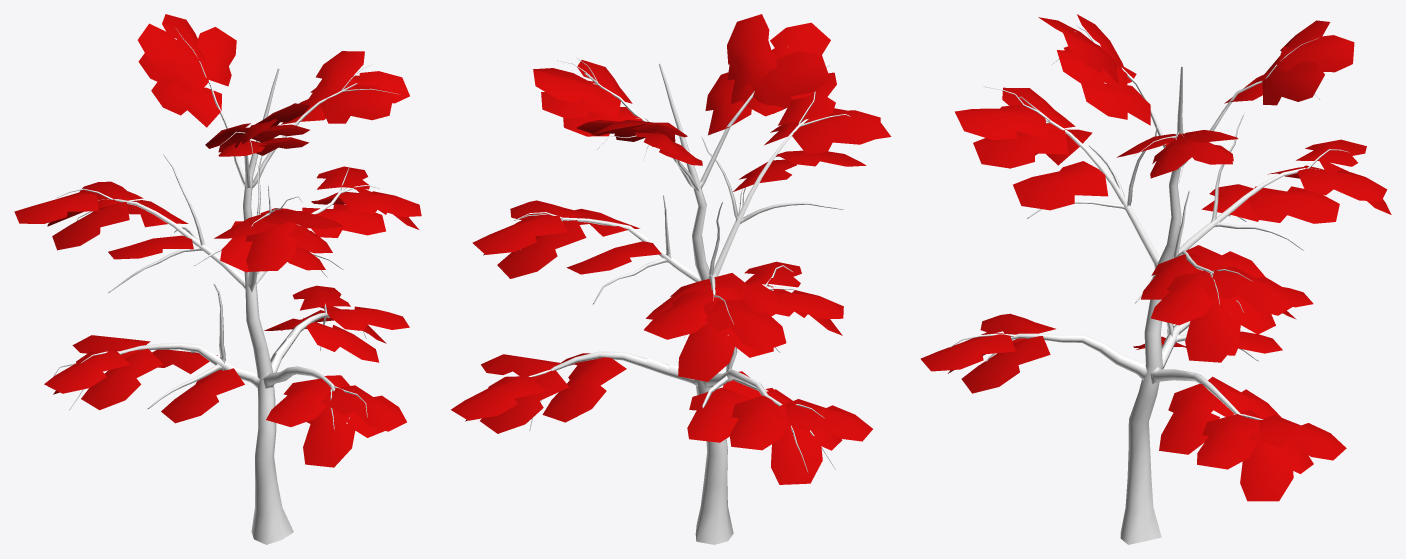
Rendered from SM_tree_06.FBX.
3 renders of one model, left to right at view 1: azimuth 30°, elevation 25°; view 2: azimuth 150°, elevation 25°; view 3: azimuth 270°, elevation 25°, orthographic. The views are drawn at different scales.
Visible parts, largest first — view 1: SM_tree_06_LOD0; view 2: SM_tree_06_LOD0; view 3: SM_tree_06_LOD0.
Boxes of the visible parts, x1,y1,x2,y2 form: SM_tree_06_LOD0: (14, 14, 421, 544); SM_tree_06_LOD0: (451, 14, 891, 544); SM_tree_06_LOD0: (920, 14, 1391, 544).
Size of what is drawn, in the model's own units: 680 by 711 by 839.
